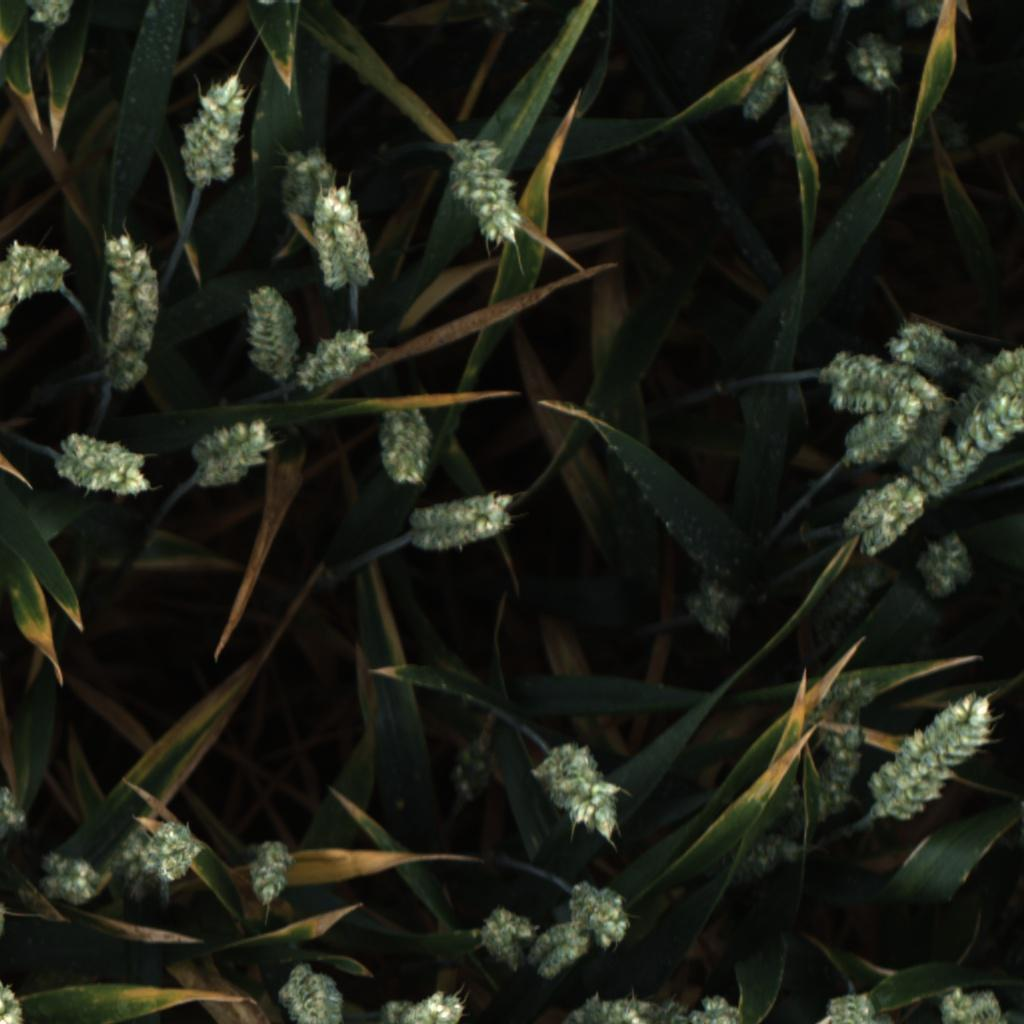0-0: (868, 693, 996, 823), (90, 227, 167, 395), (912, 394, 1023, 507), (529, 741, 630, 847), (444, 133, 527, 255), (814, 349, 950, 416), (800, 557, 899, 645), (307, 175, 379, 293), (268, 132, 353, 231), (177, 70, 248, 188), (182, 412, 280, 494), (405, 482, 514, 554), (841, 473, 927, 561), (54, 427, 154, 501), (838, 395, 925, 470), (243, 280, 304, 384), (371, 400, 441, 490), (955, 331, 1024, 414), (297, 319, 377, 389), (680, 571, 756, 644), (884, 319, 968, 382), (774, 97, 854, 163), (909, 532, 979, 603), (526, 919, 597, 988), (470, 901, 538, 972), (564, 878, 631, 949), (808, 676, 884, 738), (4, 235, 72, 303), (274, 961, 347, 1024), (902, 389, 956, 474), (736, 53, 797, 126), (140, 820, 205, 886), (104, 826, 159, 903), (841, 31, 904, 94), (32, 850, 102, 906), (441, 732, 494, 805), (245, 837, 297, 909), (733, 828, 805, 879), (819, 720, 868, 793), (935, 985, 1019, 1024), (559, 992, 654, 1024), (787, 779, 854, 824), (815, 985, 883, 1024), (686, 985, 753, 1024), (401, 989, 464, 1024), (0, 259, 22, 350), (0, 780, 32, 839), (21, 0, 76, 28), (898, 0, 947, 29), (0, 979, 29, 1024), (642, 998, 688, 1024), (379, 997, 415, 1024), (807, 0, 838, 22), (843, 0, 865, 10)
